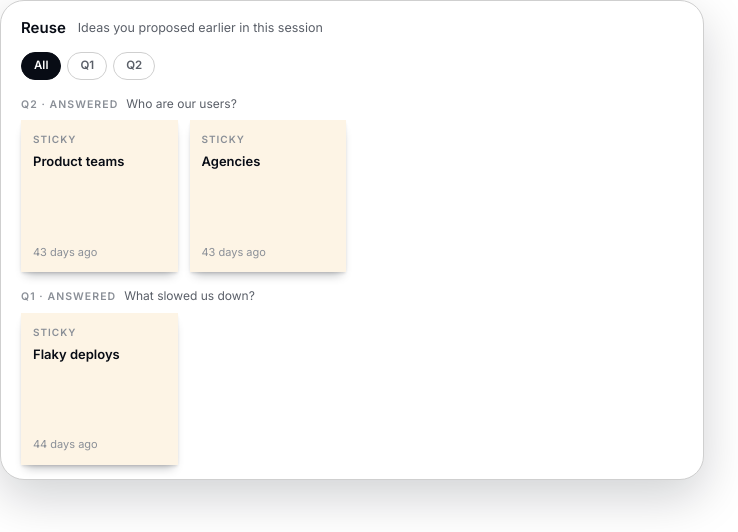
Scenario: my proposals panel with a lot to choose from › narrows the list to one question
Click the button "Q2". click: (134, 66)
box: [113,52,155,80]
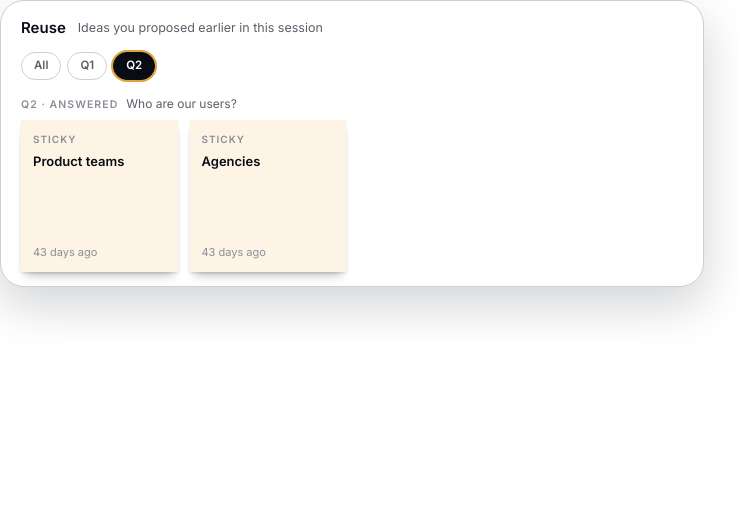
Expected: the text "Agencies" is shown, [202,153,260,171]
Expected: the button "Flaky deploys" is gone
Click the button "All". click: (41, 66)
box: [21,52,61,80]
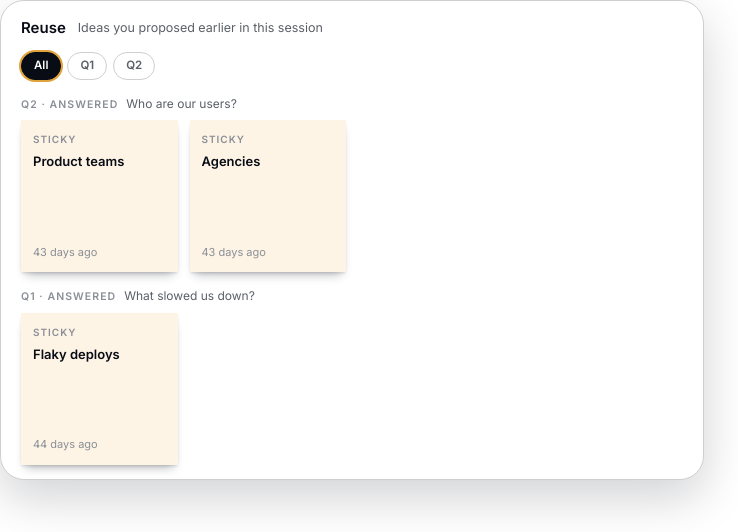
Expected: the text "Flaky deploys" is shown, [33,346,120,363]
